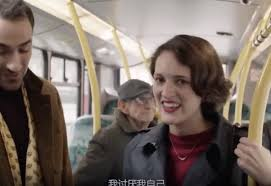people: (137, 36, 235, 186), (1, 2, 72, 186), (101, 81, 157, 186)
